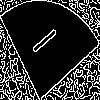I: (25, 25, 59, 62)
